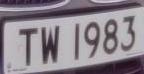1: (69, 19, 85, 67)
3: (119, 12, 139, 57)
8: (101, 14, 121, 62)
9: (82, 17, 103, 64)
T: (15, 22, 41, 72)
W: (39, 21, 63, 70)
